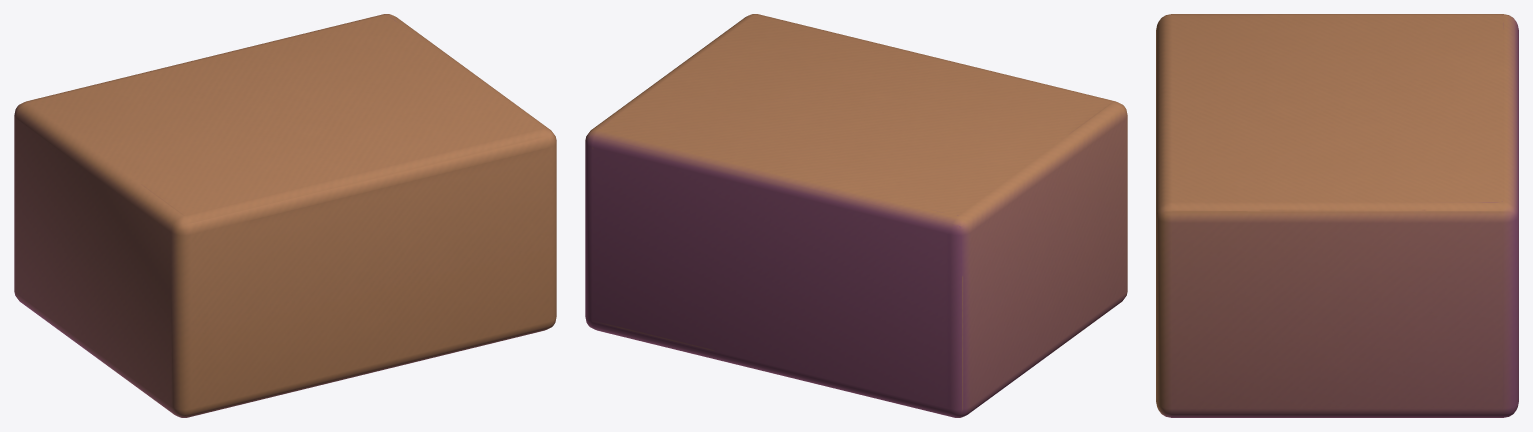
File: Package_Medium.fbx
3 views of the same model, side by side, from view 1: azimuth 30°, elevation 25°; view 2: azimuth 150°, elevation 25°; view 3: azimuth 270°, elevation 25° (orthographic). The views are drawn at different scales.
Visible parts, largest first — view 1: Package_Medium; view 2: Package_Medium; view 3: Package_Medium.
Boxes of the visible parts, x1=… form: Package_Medium: x1=14, y1=14, x2=556, y2=417; Package_Medium: x1=585, y1=14, x2=1127, y2=417; Package_Medium: x1=1156, y1=14, x2=1518, y2=417.
Size of the model in its own units: 30 by 15 by 23.
